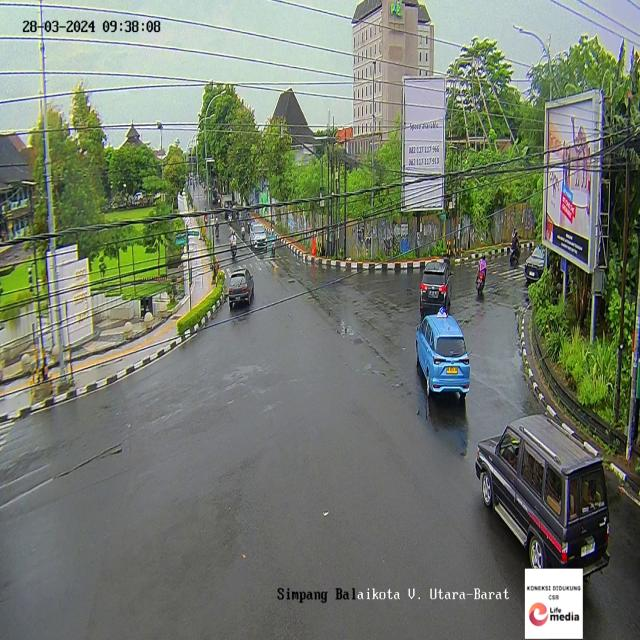car: (474, 414, 611, 571), (414, 315, 472, 398), (420, 261, 454, 307), (223, 269, 254, 308), (525, 244, 552, 284), (248, 219, 269, 254)
motorcycle: (476, 251, 488, 303), (508, 224, 520, 266), (229, 228, 238, 259), (270, 225, 276, 259), (213, 217, 220, 240), (240, 216, 246, 242)
